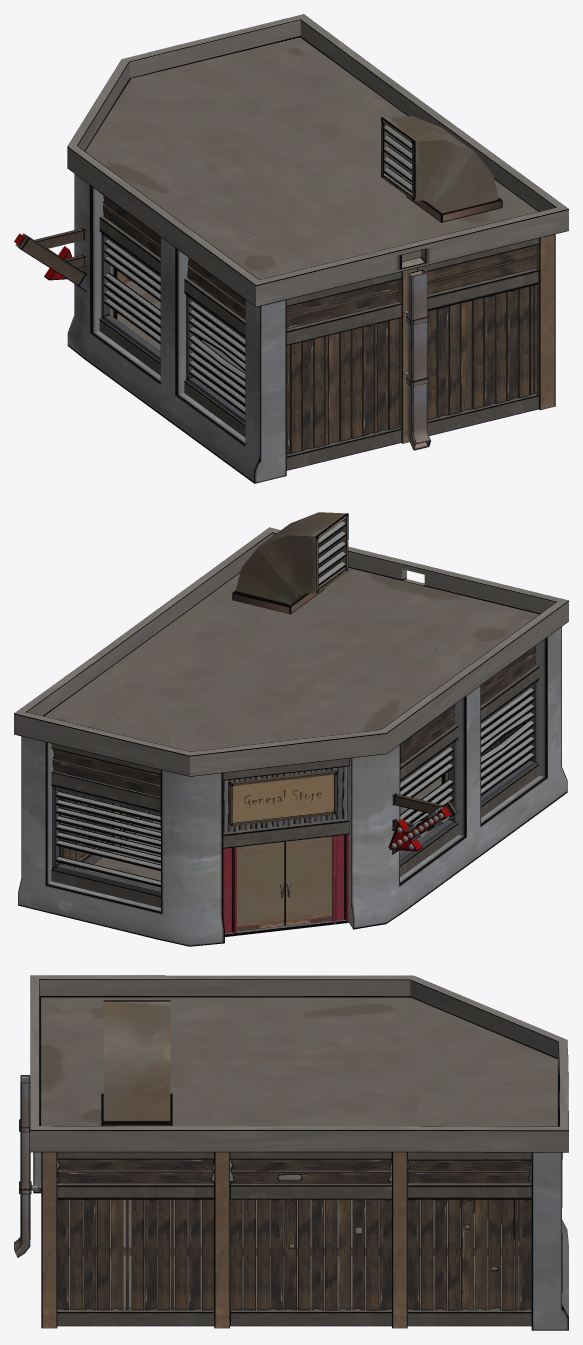
The model's file is shop_01.fbx.
The picture shows the model from 3 angles, top to bottom: view 1: azimuth 30°, elevation 25°; view 2: azimuth 150°, elevation 25°; view 3: azimuth 270°, elevation 25°; orthographic projection. The views are drawn at different scales.
Visible parts, largest first — view 1: shop_01; view 2: shop_01, Door, Door_2; view 3: shop_01.
Part boxes in pixels (x1,y1,x2,y2): shop_01: (14,14,568,483); shop_01: (14,512,568,946); Door: (284,836,332,925); Door_2: (237,842,284,931); shop_01: (14,975,568,1330).
Bounding box in the file's own units: 922 × 636 × 1172.
Materials: 1 (1 with a texture image).
